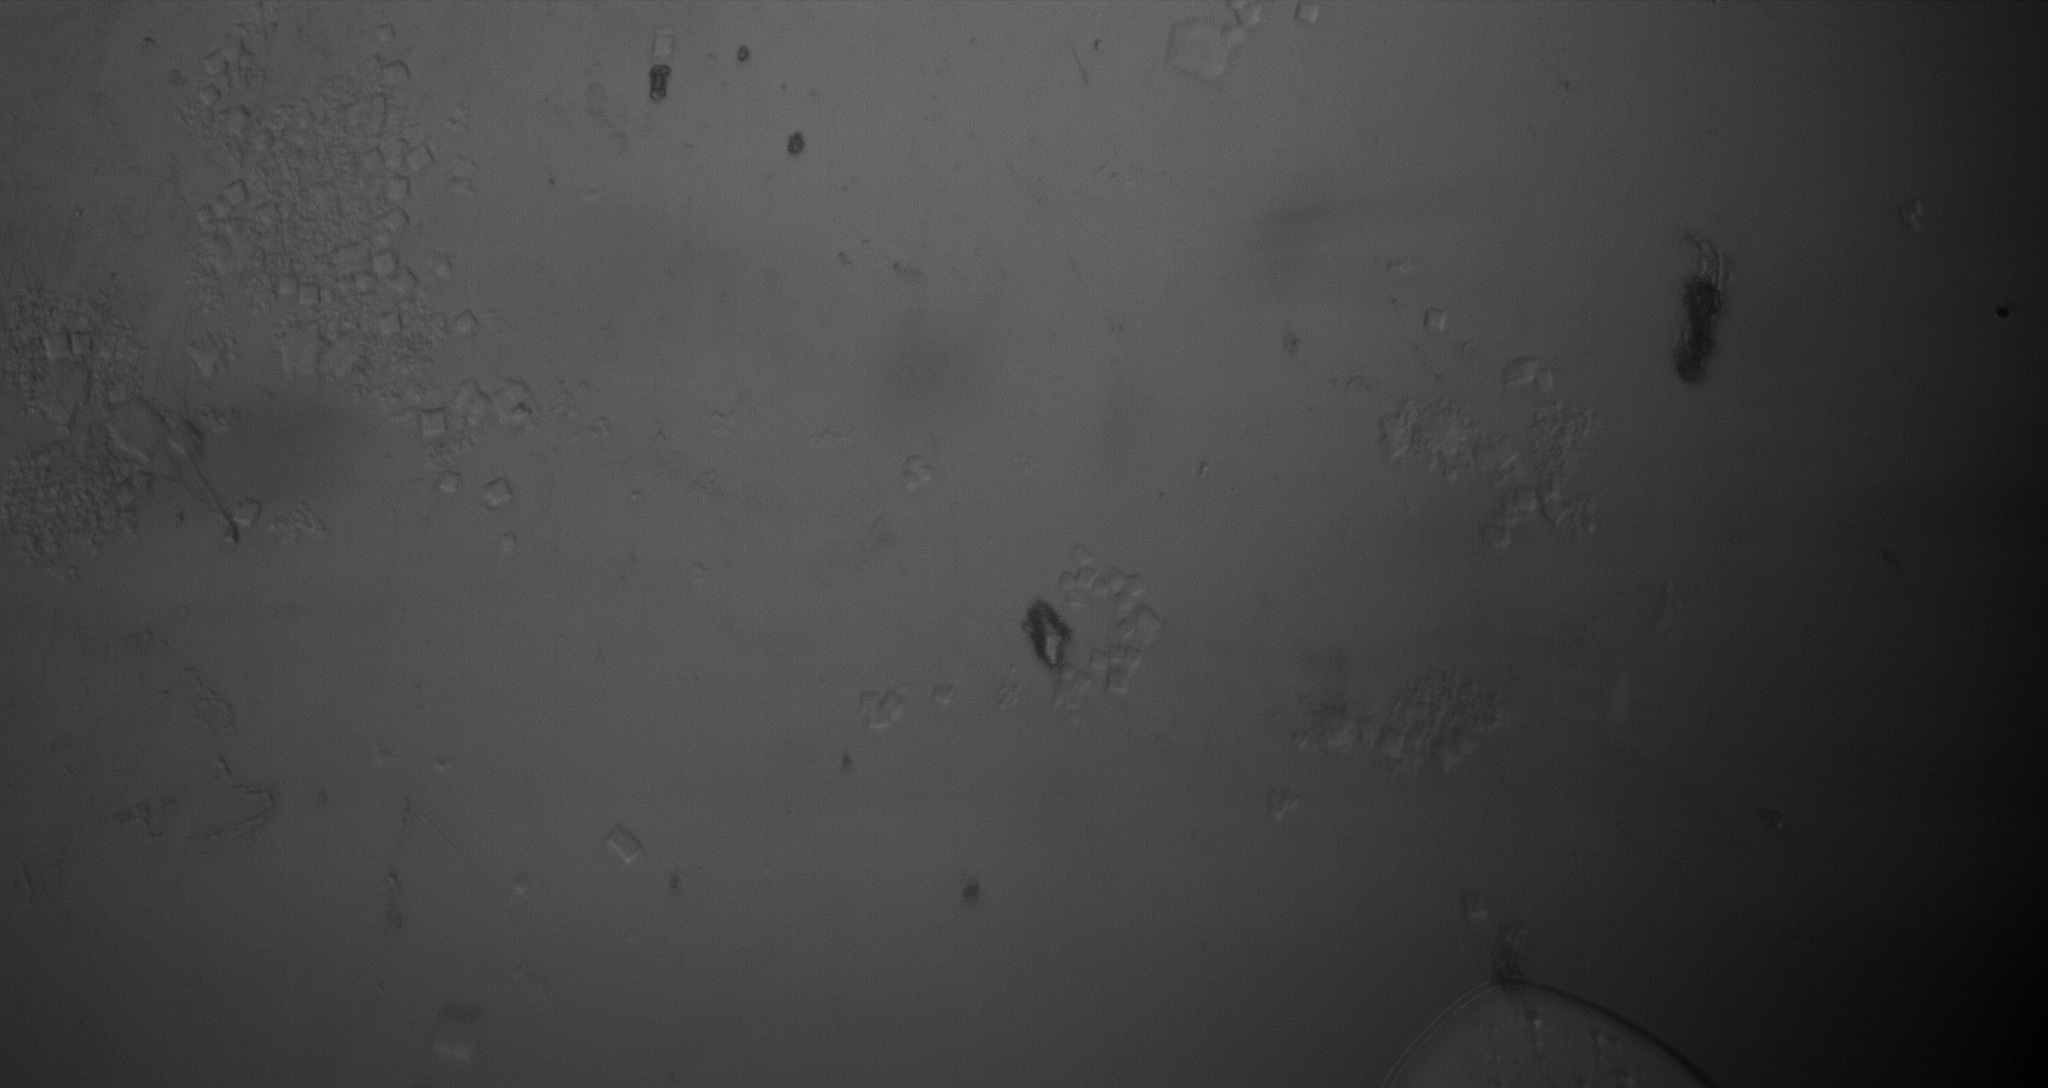square: (607, 820, 641, 871), (479, 473, 515, 514), (232, 495, 264, 528), (416, 404, 447, 439), (41, 329, 73, 360), (1378, 724, 1406, 757), (1462, 887, 1491, 919), (405, 141, 435, 172), (451, 305, 479, 336), (192, 81, 223, 104), (382, 60, 413, 83), (652, 33, 677, 57), (1424, 306, 1448, 332), (1294, 1, 1321, 24), (438, 472, 463, 493), (935, 680, 958, 703), (387, 177, 410, 201), (225, 182, 247, 203), (301, 283, 322, 304)
